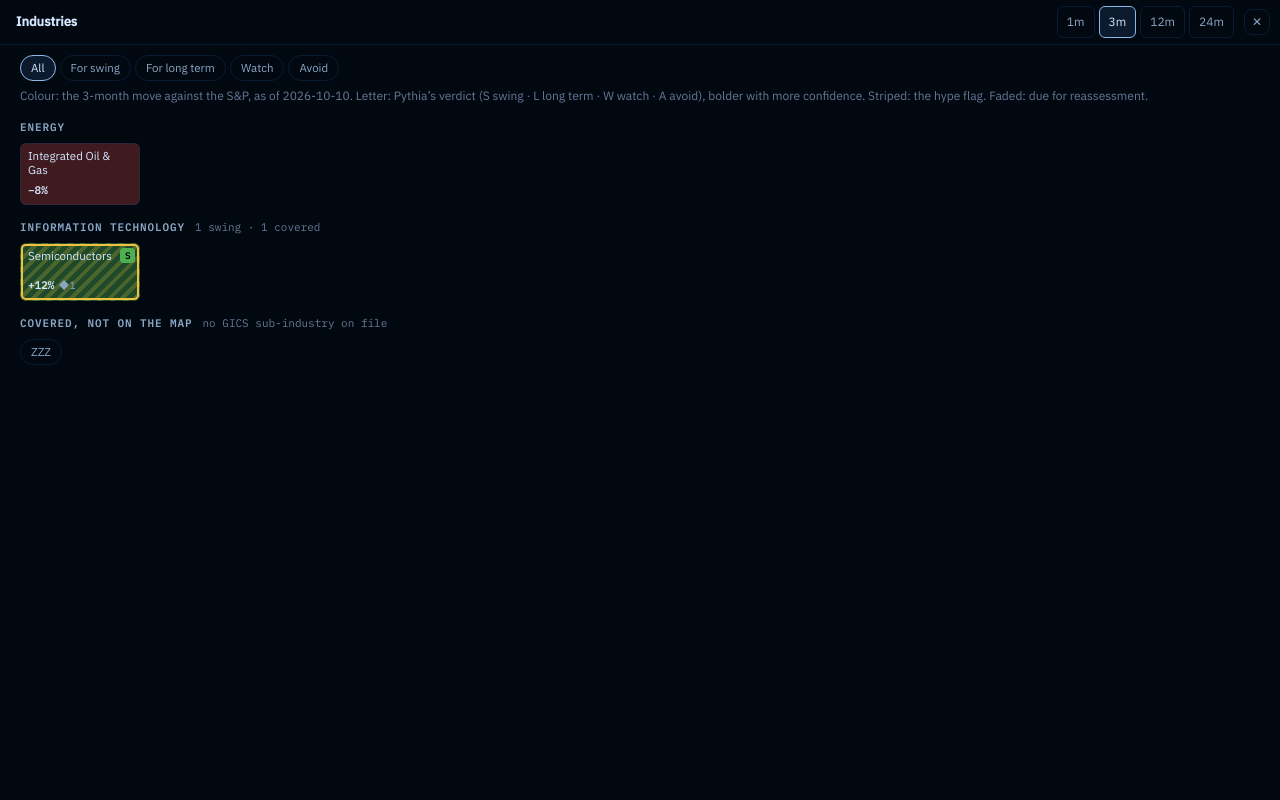
Test: ForecastPanel — the map › lists covered names with no GICS home beside the map, each opening its thesis
The width and height of the screenshot is (1280, 800).
Click the button "ZZZ". click: coordinates (41, 352)
box: [20, 338, 62, 365]
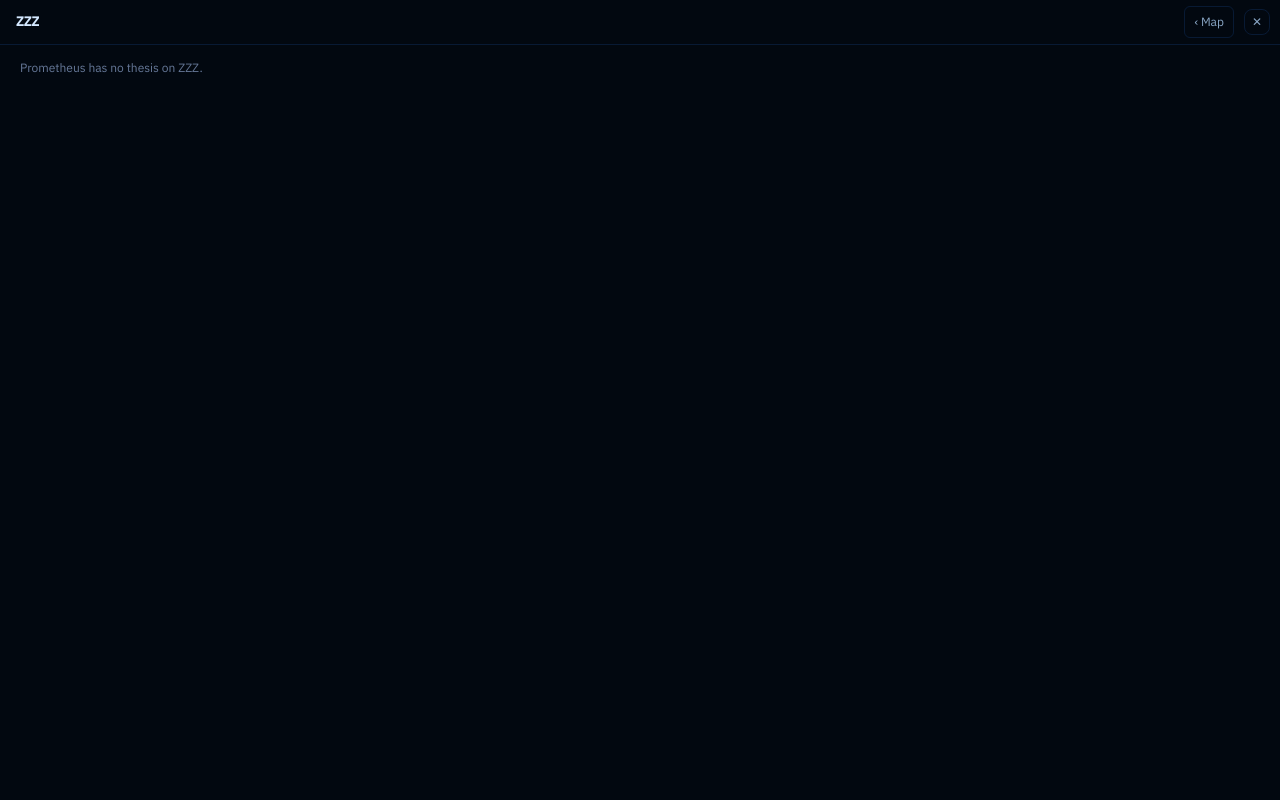
Check: the text with class "detail-panel__title" reads "ZZZ", box [16, 12, 39, 30]
Check: the text "Prometheus has no thesis on ZZZ." is shown, box [20, 60, 203, 75]
